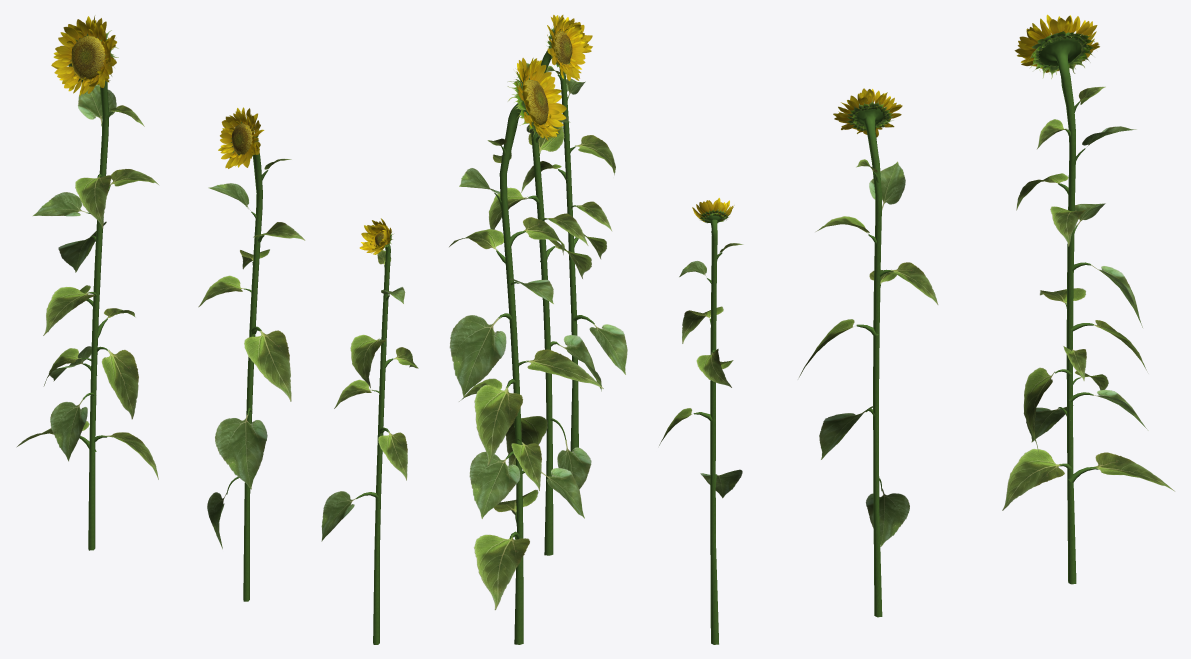
The picture shows the model from 3 angles, left to right: view 1: azimuth 30°, elevation 25°; view 2: azimuth 150°, elevation 25°; view 3: azimuth 270°, elevation 25°; orthographic projection. The views are drawn at different scales.
Parts seen in each view (by area): view 1: sunflower_big, sunflower_small, sunflower_mid; view 2: sunflower_big, sunflower_small, sunflower_mid; view 3: sunflower_big, sunflower_small, sunflower_mid.
Boxes of the visible parts, x1,y1,x2,y2 form: sunflower_big: [16, 15, 158, 550]; sunflower_small: [198, 107, 304, 601]; sunflower_mid: [321, 218, 418, 644]; sunflower_big: [449, 58, 603, 644]; sunflower_small: [489, 15, 601, 555]; sunflower_mid: [521, 18, 627, 451]; sunflower_big: [1002, 14, 1174, 584]; sunflower_small: [799, 88, 938, 617]; sunflower_mid: [659, 198, 743, 644].
Bounding box in the file's own units: 0.6323 × 1.45 × 1.2.
2 materials, 2 textured.
